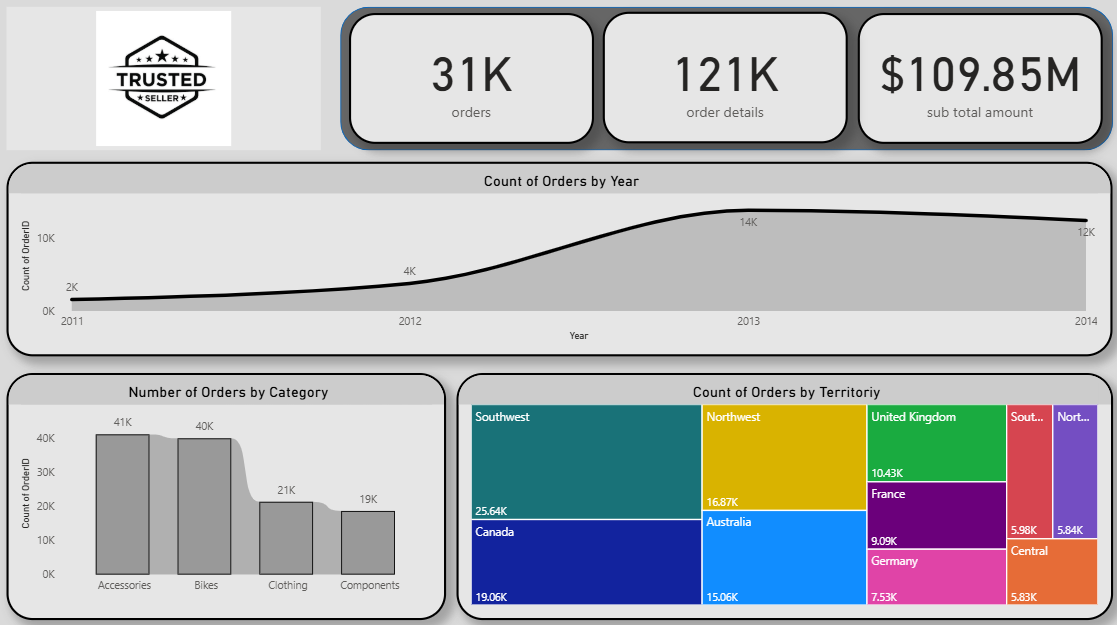

Layout of this report page (visuals, bound fields, positions):
{"tool":"powerbi","page":{"name":"Homepage","canvas":[1280,720],"ordinal":0},"visuals":[{"type":"shape","box":[389.6,9.5,883.2,164.2],"z":0},{"type":"card","fields":{"Values":["Dax Measures.orders"]},"box":[399.6,16.9,279.9,149.3],"z":1000},{"type":"card","fields":{"Values":["Dax Measures.sub total amount"]},"box":[981.7,16.9,279.9,149.3],"z":2000},{"type":"card","fields":{"Values":["Dax Measures.order details"]},"box":[690.6,15.7,279.9,150.5],"z":3000},{"type":"lineChart","title":"Count of Orders by Year","fields":{"Category":["Orders.ShipDate.Variation.Date Hierarchy.Year","Orders.ShipDate.Variation.Date Hierarchy.Quarter"],"Y":["CountNonNull(Orders.OrderID)"]},"box":[8.7,186.6,1263.9,222.7],"z":4000},{"type":"image","box":[8.7,10,359.5,164.2],"z":5000},{"type":"columnChart","title":"Number of Orders by Category","fields":{"Category":["Product Category.Category"],"Y":["CountNonNull(Order Details.OrderID)"]},"box":[8.7,427.9,502.6,282.4],"z":6000},{"type":"treemap","title":"Count of Orders by Territoriy","fields":{"Group":["Territories.Territoriy"],"Values":["CountNonNull(Order Details.OrderID)"]},"box":[522.5,427.9,750.1,282.4],"z":7000}]}

Visuals, with their boxes in screenshot pixels (x1, y1, x2, y2), scaled from the page's 1280x720 canvas onto the 1117x625 screenshot:
shape: left=340, top=8, right=1111, bottom=151
card - Dax Measures.orders: left=349, top=15, right=593, bottom=144
card - Dax Measures.sub total amount: left=857, top=15, right=1101, bottom=144
card - Dax Measures.order details: left=603, top=14, right=847, bottom=144
"Count of Orders by Year" lineChart: left=8, top=162, right=1111, bottom=355
image: left=8, top=9, right=321, bottom=151
"Number of Orders by Category" columnChart: left=8, top=371, right=446, bottom=617
"Count of Orders by Territoriy" treemap: left=456, top=371, right=1111, bottom=617
